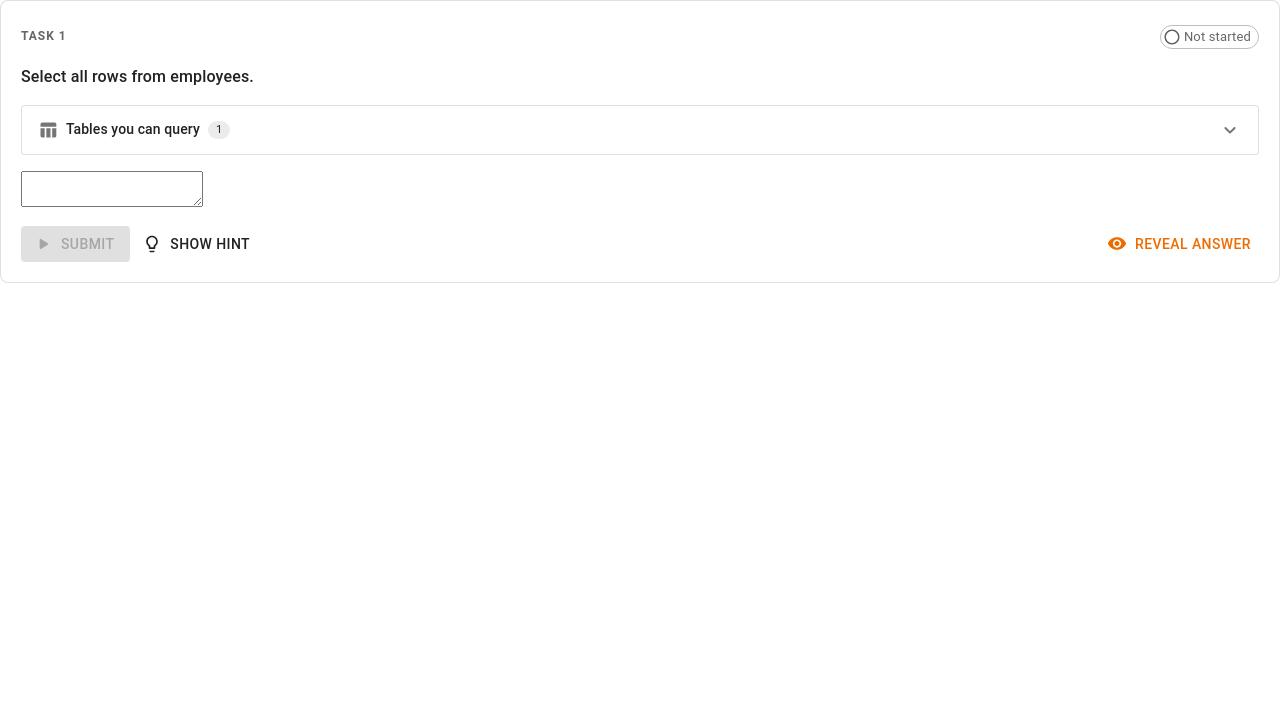
it: TaskCard — reveal › confirming reveals the reference query and marks SKIPPED
This screenshot has width=1280, height=720.
Click the button "Reveal answer".
click(1181, 244)  # box [1103,226,1259,262]
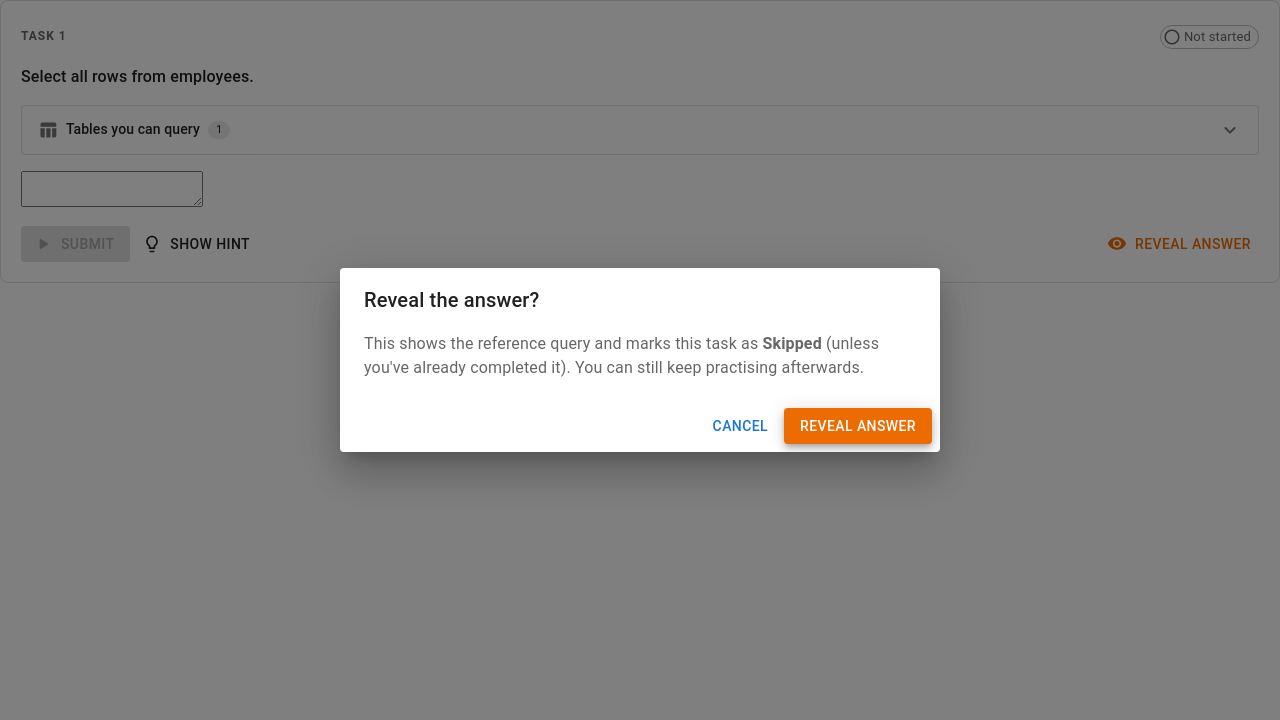
Check: the heading "Reveal the answer?" is shown, box [364,288,539,312]
Click the button "Reveal answer".
click(858, 426)  # box [784,408,932,444]
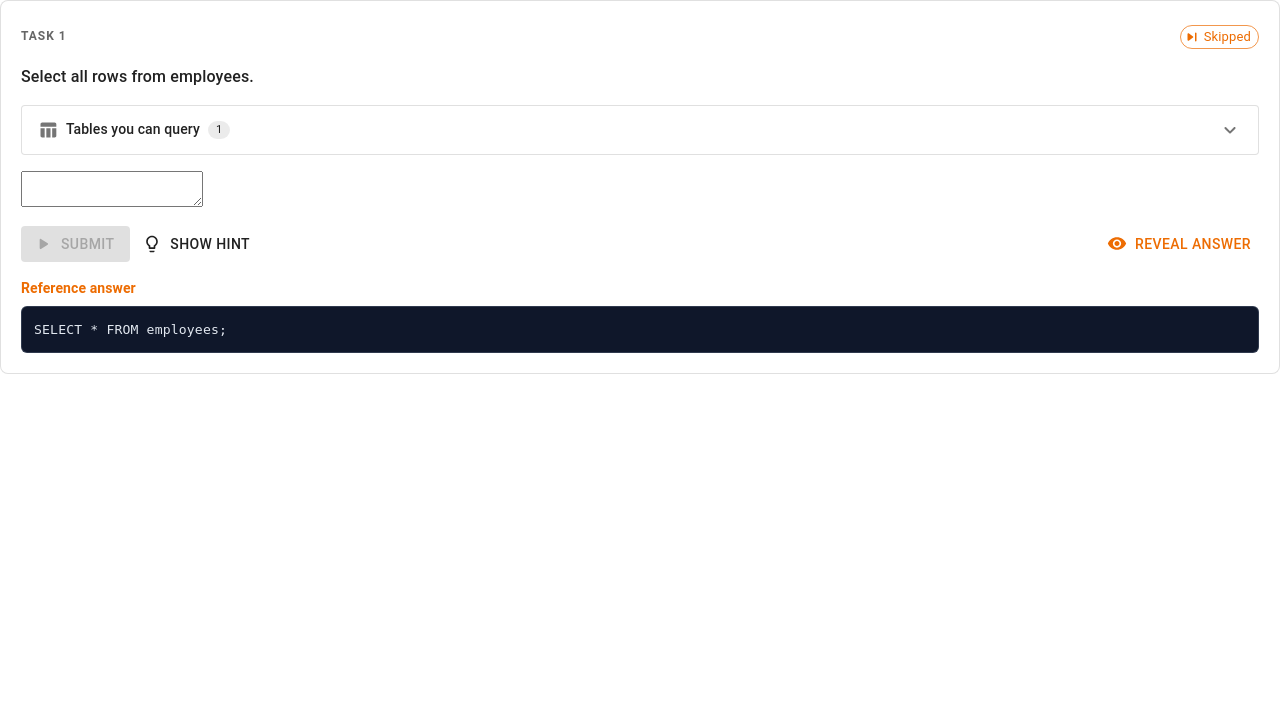
Check: the heading "Reference answer" is shown, box [21,280,136,296]
Check: the element named "Reference answer" reads "SELECT * FROM employees;", box [34,322,227,337]
